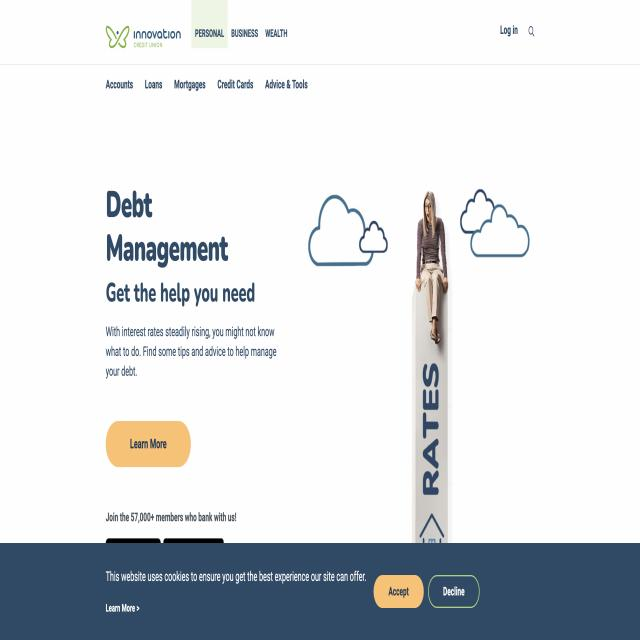Logo: (103, 12, 184, 62)
Navigation: (101, 70, 330, 99)
